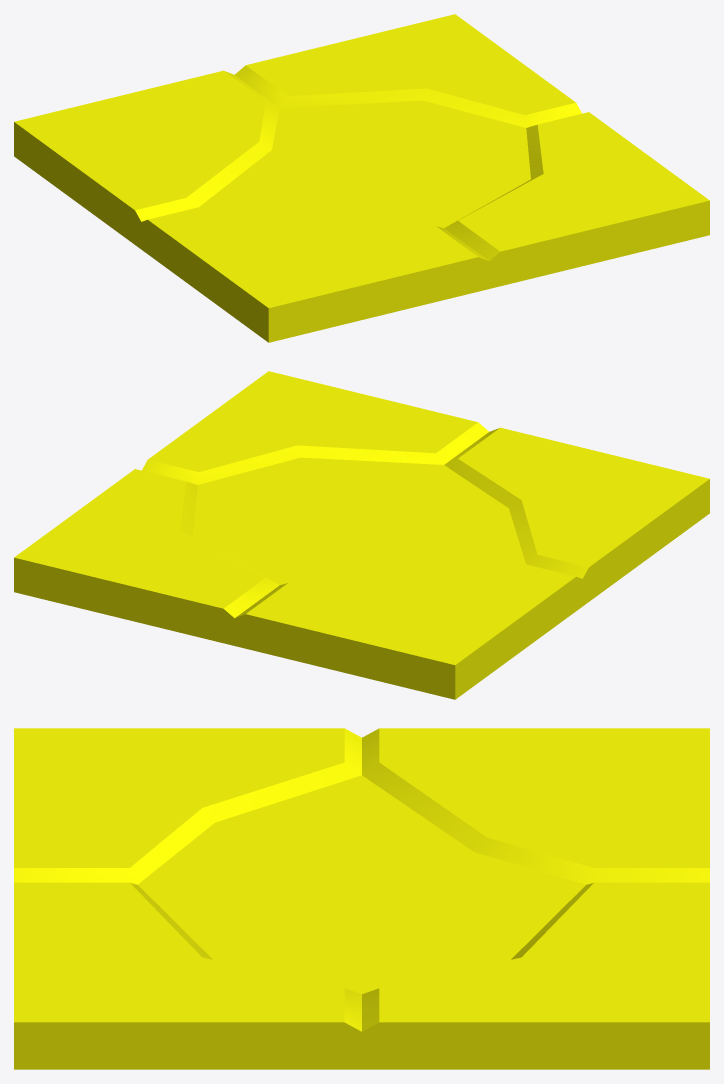
Rendered from kaykit-floor-tile-small-broken-b.glb.
The picture shows the model from 3 angles, top to bottom: view 1: azimuth 30°, elevation 25°; view 2: azimuth 150°, elevation 25°; view 3: azimuth 270°, elevation 25°; orthographic projection. The views are drawn at different scales.
Visible parts, largest first — view 1: floor_tile_small_broken_B; view 2: floor_tile_small_broken_B; view 3: floor_tile_small_broken_B.
Boxes of the visible parts, <box> form: floor_tile_small_broken_B: <box>14,14,709,342</box>; floor_tile_small_broken_B: <box>14,371,709,699</box>; floor_tile_small_broken_B: <box>14,728,709,1069</box>.
Bounding box in the file's own units: 2 × 0.1499 × 2.
